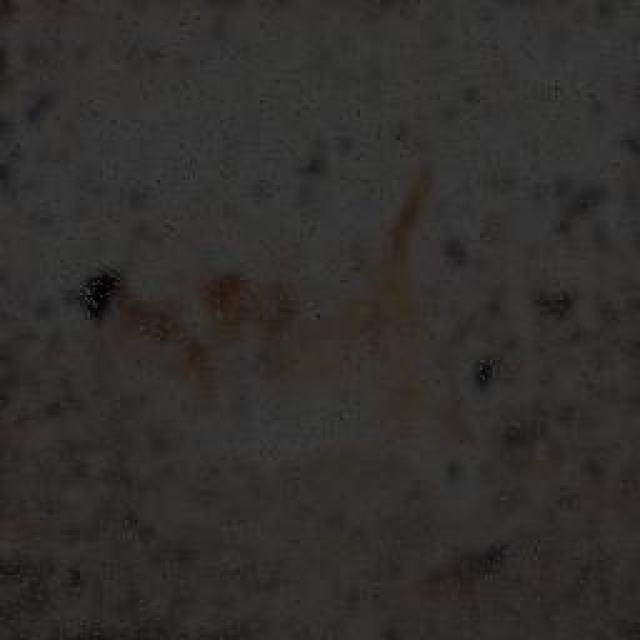Fox: (64, 162, 454, 526)
